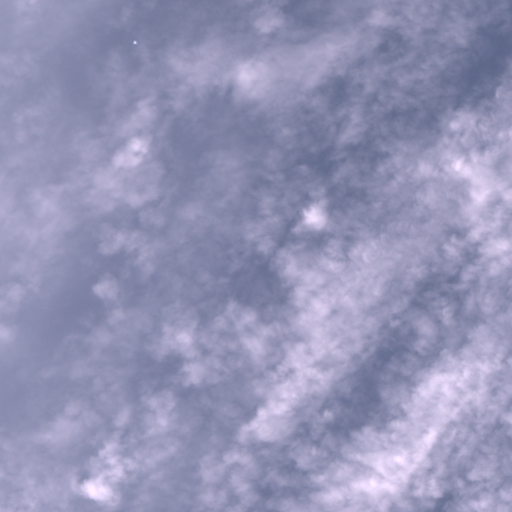Iceberg: (133, 41, 136, 43)
